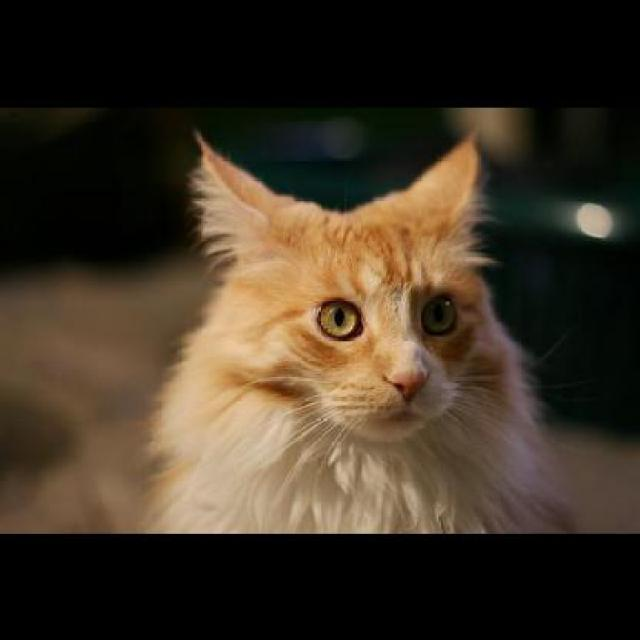unauthorized: (138, 124, 577, 534)
